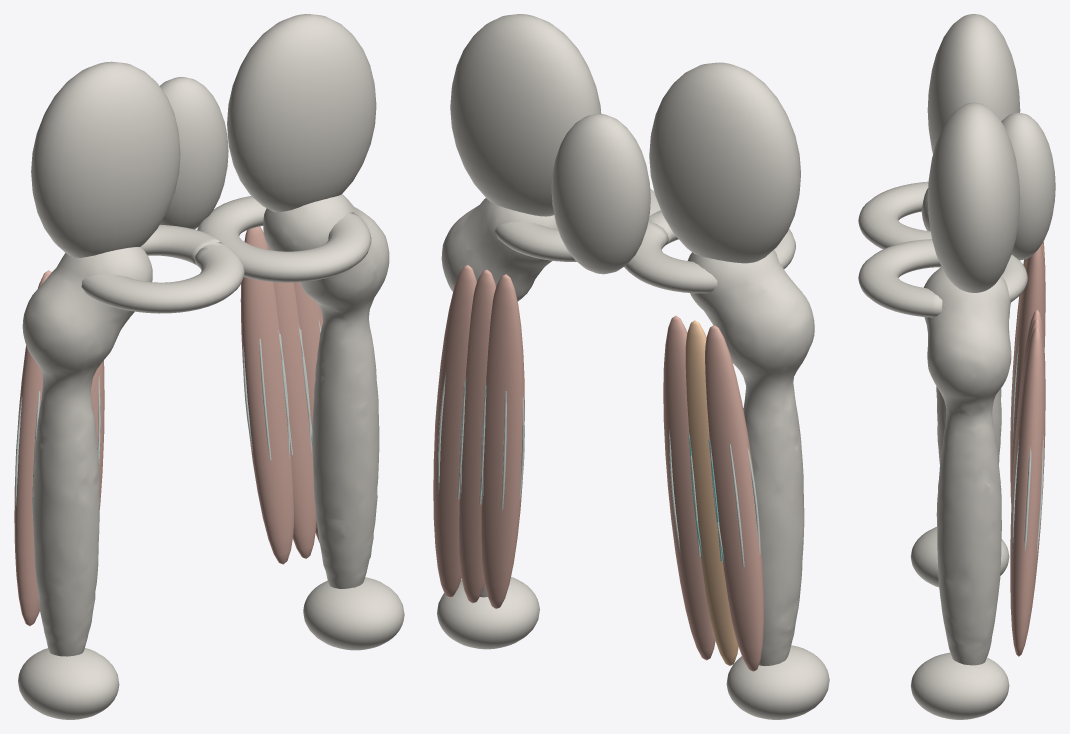
The model's file is hamstrings.glb.
3 views of the same model, side by side, from view 1: azimuth 30°, elevation 25°; view 2: azimuth 150°, elevation 25°; view 3: azimuth 270°, elevation 25° (orthographic). The views are drawn at different scales.
Parts seen in each view (by area): view 1: static #eee5d3, static #bb7564, static #c7ddd2; view 2: static #eee5d3, static #bb7564, static #f2a066, static #c7ddd2; view 3: static #eee5d3, static #bb7564, static #c7ddd2.
Part boxes in pixels (left/top/right/bottom): static #eee5d3: left=18, top=14, right=404, bottom=719; static #bb7564: left=14, top=226, right=323, bottom=626; static #c7ddd2: left=15, top=319, right=320, bottom=516; static #eee5d3: left=437, top=14, right=829, bottom=719; static #bb7564: left=433, top=265, right=763, bottom=671; static #f2a066: left=685, top=320, right=738, bottom=665; static #c7ddd2: left=434, top=371, right=760, bottom=567; static #eee5d3: left=858, top=14, right=1055, bottom=719; static #bb7564: left=1010, top=241, right=1045, bottom=656; static #c7ddd2: left=1012, top=335, right=1043, bottom=556.
Size of the model in its own units: 0.258 by 0.419 by 0.128.
